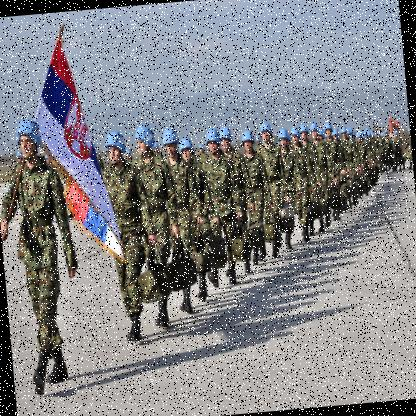rs: (29, 36, 128, 270)
